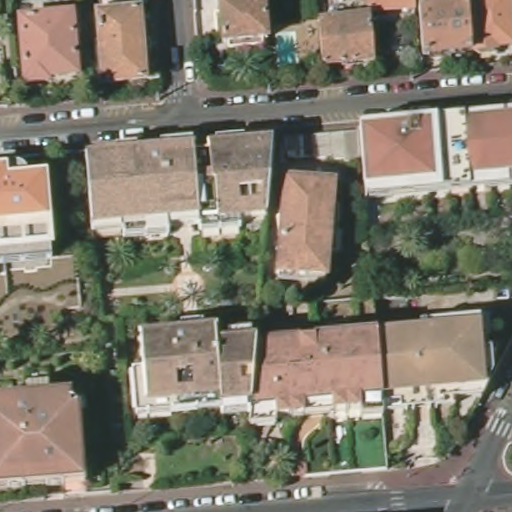pool: (272, 33, 299, 72)
